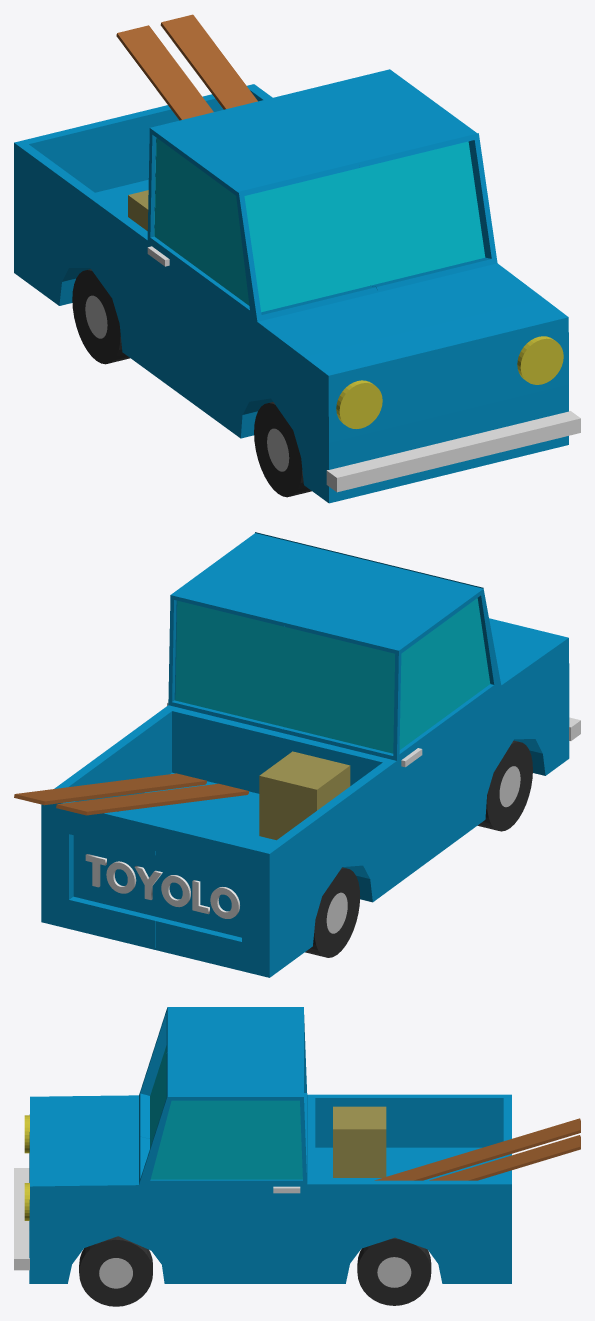
Rendered from pickup.fbx.
3 renders of one model, top to bottom at view 1: azimuth 30°, elevation 25°; view 2: azimuth 150°, elevation 25°; view 3: azimuth 270°, elevation 25°, orthographic. The views are drawn at different scales.
Parts seen in each view (by area): view 1: Truck, Windshield, Door Windows, Front Bumper, Cube.003, Cube.002, Front Right Tire, Rear Right Tire, Right Headlight, Left Headlight, Cube; view 2: Truck, RearWindowPane, Door Windows, Cube, Front Right Tire, Rear Right Tire, Text, Cube.003, Cube.002; view 3: Truck, Door Windows, Front-Left-Tire, Rear Left Tire, Cube, Cube.003, Cube.002, Front Bumper, Windshield.
Part boxes in pixels (left/top/right/bottom): Truck: left=14, top=69, right=568, bottom=503; Windshield: left=244, top=141, right=485, bottom=312; Door Windows: left=154, top=138, right=249, bottom=305; Front Bumper: left=326, top=411, right=580, bottom=492; Cube.003: left=116, top=25, right=213, bottom=120; Cube.002: left=160, top=14, right=257, bottom=109; Front Right Tire: left=254, top=402, right=311, bottom=497; Rear Right Tire: left=72, top=269, right=129, bottom=364; Right Headlight: left=336, top=380, right=382, bottom=428; Left Headlight: left=517, top=336, right=563, bottom=384; Cube: left=128, top=190, right=148, bottom=230; Truck: left=41, top=532, right=569, bottom=977; RearWindowPane: left=175, top=600, right=394, bottom=753; Door Windows: left=399, top=598, right=490, bottom=749; Cube: left=259, top=751, right=350, bottom=840; Front Right Tire: left=477, top=740, right=532, bottom=831; Rear Right Tire: left=305, top=867, right=360, bottom=957; Text: left=85, top=854, right=239, bottom=918; Cube.003: left=56, top=783, right=248, bottom=815; Cube.002: left=14, top=773, right=206, bottom=805; Truck: left=29, top=1007, right=511, bottom=1283; Door Windows: left=150, top=1100, right=302, bottom=1179; Front-Left-Tire: left=79, top=1236, right=152, bottom=1306; Rear Left Tire: left=357, top=1237, right=431, bottom=1305; Cube: left=333, top=1106, right=386, bottom=1177; Cube.003: left=374, top=1118, right=580, bottom=1180; Cube.002: left=429, top=1135, right=580, bottom=1180; Front Bumper: left=14, top=1168, right=29, bottom=1270; Windshield: left=150, top=1045, right=166, bottom=1148.
Size of the model in its own units: 209 by 222 by 534.
